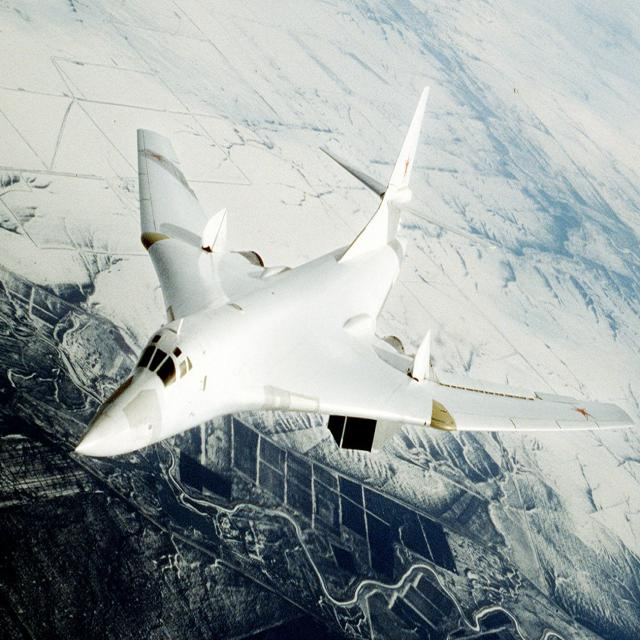MIL_Plane: (74, 85, 635, 459)
